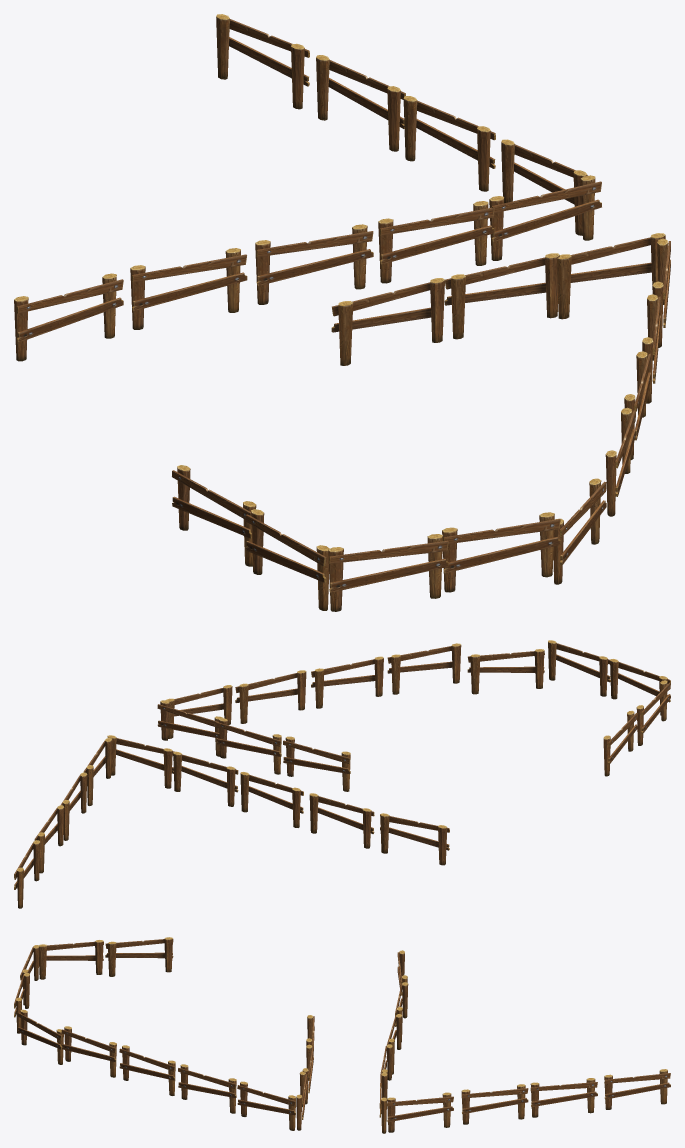
Rendered from Area_06_19.fbx.
3 renders of one model, top to bottom at view 1: azimuth 30°, elevation 25°; view 2: azimuth 150°, elevation 25°; view 3: azimuth 270°, elevation 25°, orthographic. The views are drawn at different scales.
Parts seen in each view (by area): view 1: Area_06_19; view 2: Area_06_19; view 3: Area_06_19.
Part boxes in pixels (left/top/right/bottom): Area_06_19: left=14, top=14, right=670, bottom=611; Area_06_19: left=14, top=640, right=670, bottom=908; Area_06_19: left=14, top=937, right=670, bottom=1133.
Bounding box in the file's own units: 1483 × 178 × 2497.
